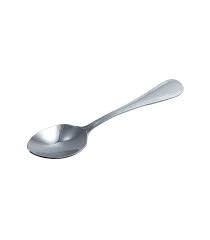spoon: (24, 74, 187, 162)
